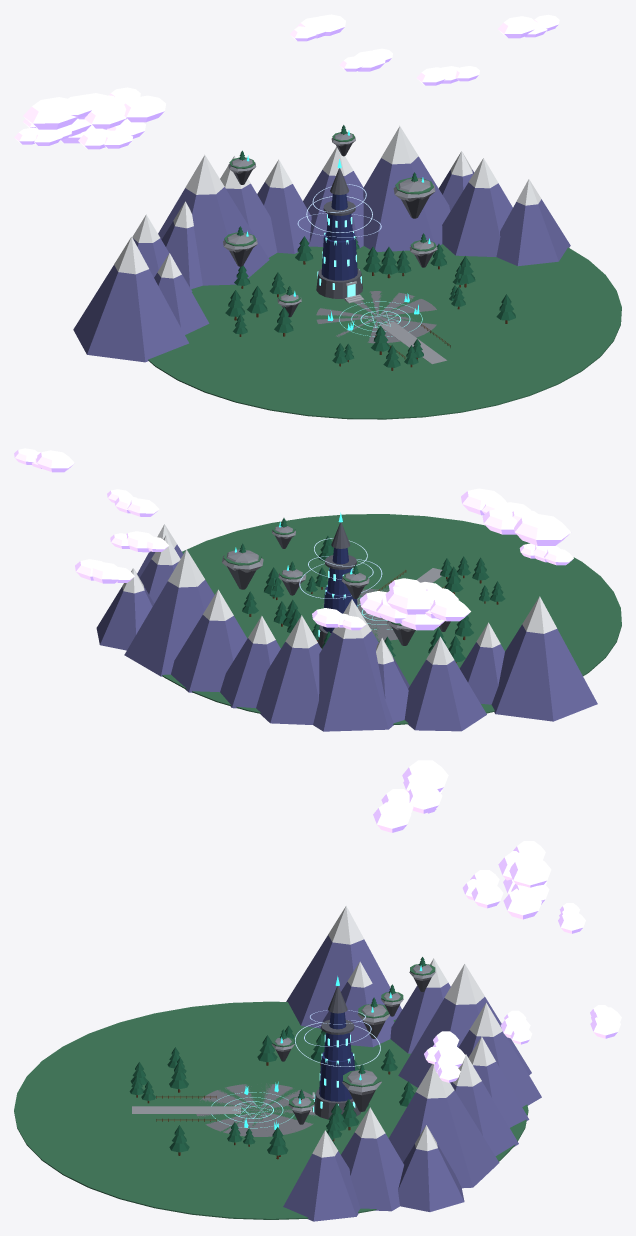
Rendered from torre-arcana.glb.
The picture shows the model from 3 angles, top to bottom: view 1: azimuth 30°, elevation 25°; view 2: azimuth 150°, elevation 25°; view 3: azimuth 270°, elevation 25°; orthographic projection. The views are drawn at different scales.
Visible parts, largest first — view 1: Chao, Montanhas, Nuvens, Arvores, Torre, Ilhas; view 2: Montanhas, Chao, Nuvens, Arvores, Ilhas, Torre; view 3: Chao, Montanhas, Nuvens, Arvores, Ilhas, Torre.
Boxes of the visible parts, x1,y1,x2,y2 form: Chao: (148, 244, 621, 419); Montanhas: (73, 126, 570, 362); Nuvens: (14, 14, 559, 149); Arvores: (225, 236, 515, 370); Torre: (316, 159, 364, 303); Ilhas: (223, 125, 437, 317); Montanhas: (96, 524, 597, 731); Chao: (162, 514, 621, 724); Nuvens: (14, 448, 573, 630); Arvores: (242, 536, 505, 662); Ilhas: (222, 518, 450, 645); Torre: (317, 512, 357, 648); Chao: (14, 1001, 528, 1219); Montanhas: (283, 906, 541, 1221); Nuvens: (373, 760, 621, 1082); Arvores: (129, 1025, 414, 1159); Ilhas: (272, 957, 435, 1124); Torre: (309, 976, 360, 1119).
Bounding box in the file's own units: 108 × 40.8 × 100.
